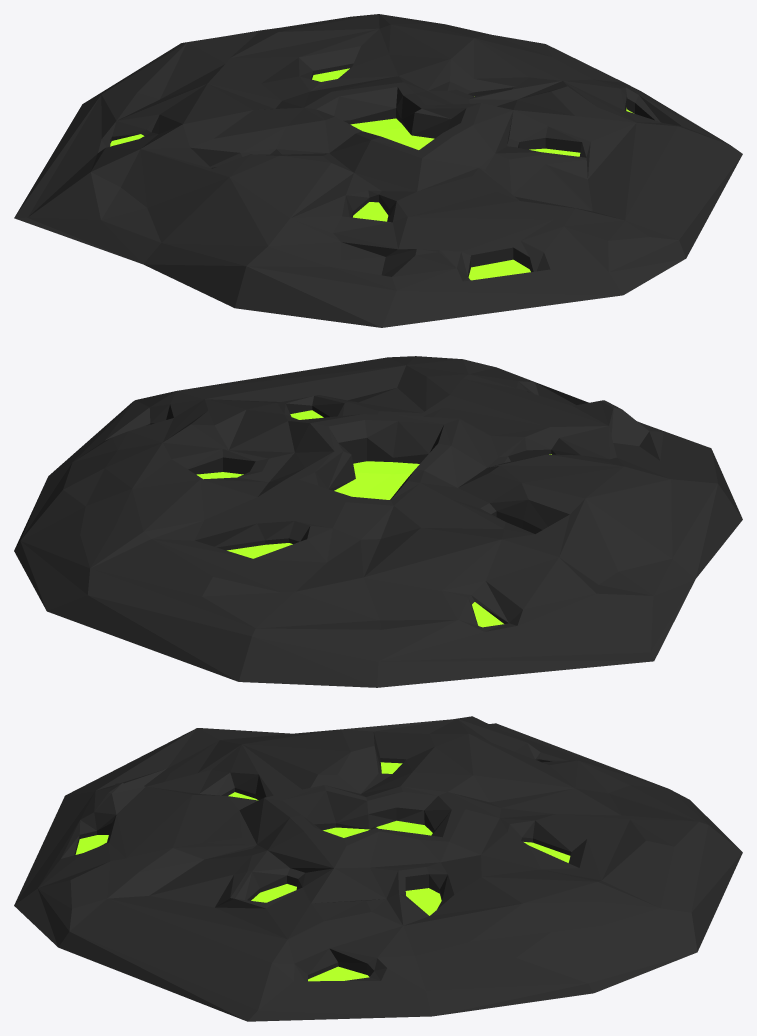
The model's file is SM_Uranium_Node.fbx.
3 renders of one model, top to bottom at view 1: azimuth 30°, elevation 25°; view 2: azimuth 150°, elevation 25°; view 3: azimuth 270°, elevation 25°, orthographic. The views are drawn at different scales.
Parts seen in each view (by area): view 1: SM_Uranium_Node_Base; view 2: SM_Uranium_Node_Base; view 3: SM_Uranium_Node_Base.
Part boxes in pixels (x1,y1,x2,y2): SM_Uranium_Node_Base: [14, 14, 742, 327]; SM_Uranium_Node_Base: [14, 356, 742, 687]; SM_Uranium_Node_Base: [14, 716, 742, 1021].
Size of the model in its own units: 191 by 22 by 194.
